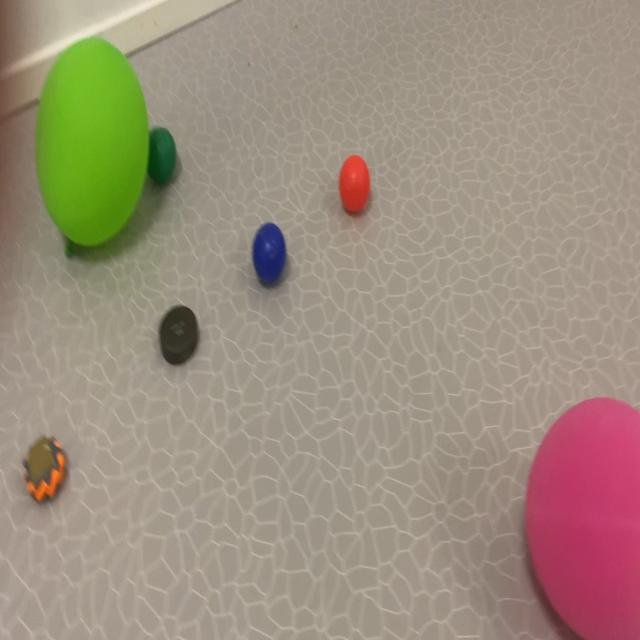7: (315, 133, 402, 281)
green ball: (235, 204, 307, 324)
red ball: (146, 110, 187, 201)
